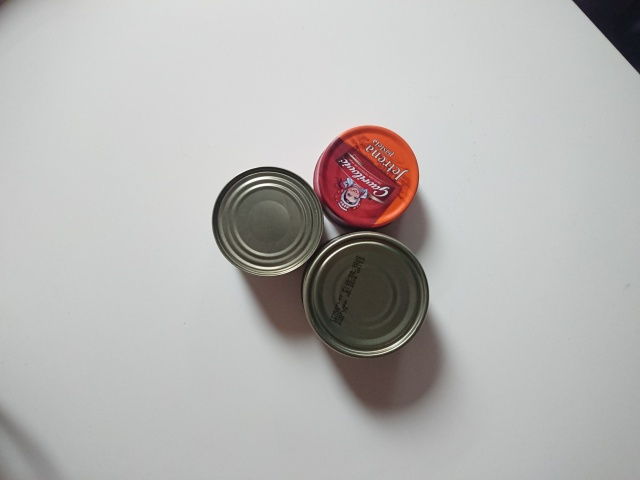Gavrilovic Pork Liver Pate 100g: (311, 123, 421, 232)
Giana Tuna Salad Mexico 185g: (299, 228, 432, 361)
Podravka Luncheon Meat 150g: (209, 164, 327, 278)
